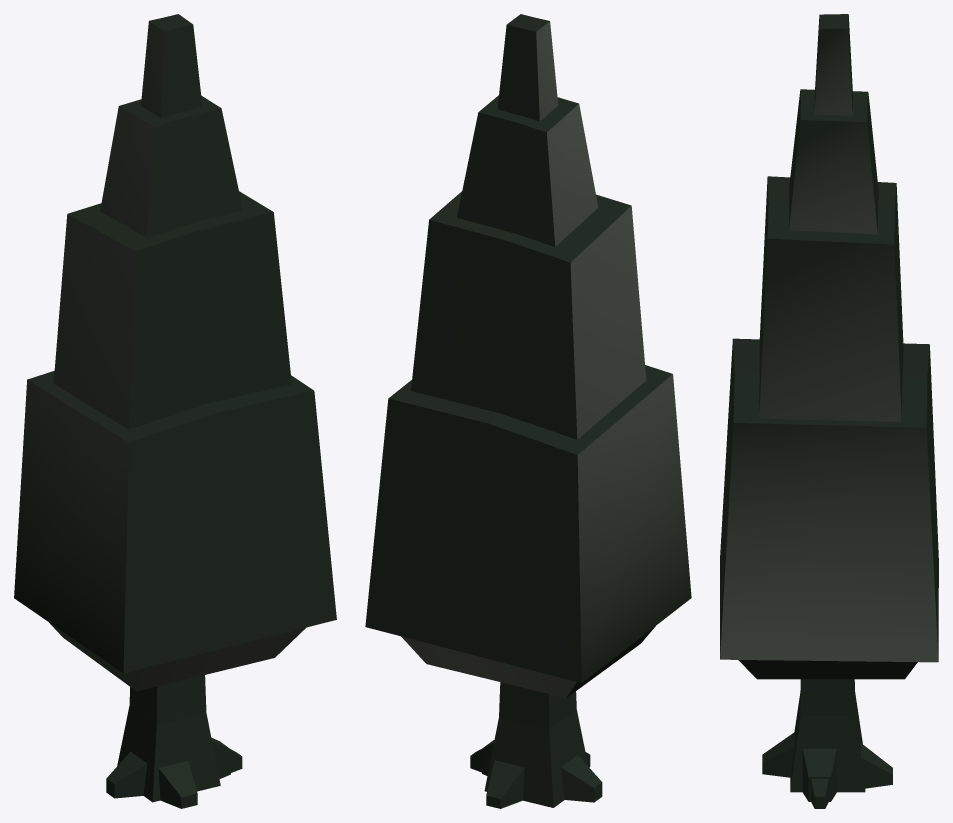
The model's file is SF_Env_Tree_Fall_07.glb.
3 renders of one model, left to right at view 1: azimuth 30°, elevation 25°; view 2: azimuth 150°, elevation 25°; view 3: azimuth 270°, elevation 25°, orthographic.
Parts seen in each view (by area): view 1: SF_Env_Tree_Fall_07; view 2: SF_Env_Tree_Fall_07; view 3: SF_Env_Tree_Fall_07.
Part boxes in pixels (x1,y1,x2,y2): SF_Env_Tree_Fall_07: (14, 14, 336, 808); SF_Env_Tree_Fall_07: (365, 14, 691, 808); SF_Env_Tree_Fall_07: (720, 14, 938, 808).
Bounding box in the file's own units: 0.0193 × 0.0649 × 0.017.
Materials: 1 (1 with a texture image).
